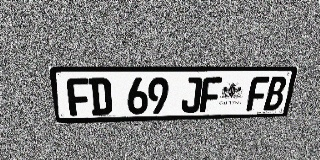6: (127, 77, 148, 114)
9: (148, 77, 169, 114)
B: (263, 77, 288, 111)
D: (89, 78, 112, 115)
F: (66, 78, 91, 116), (246, 77, 270, 111), (200, 77, 222, 112)
J: (181, 77, 202, 113)
